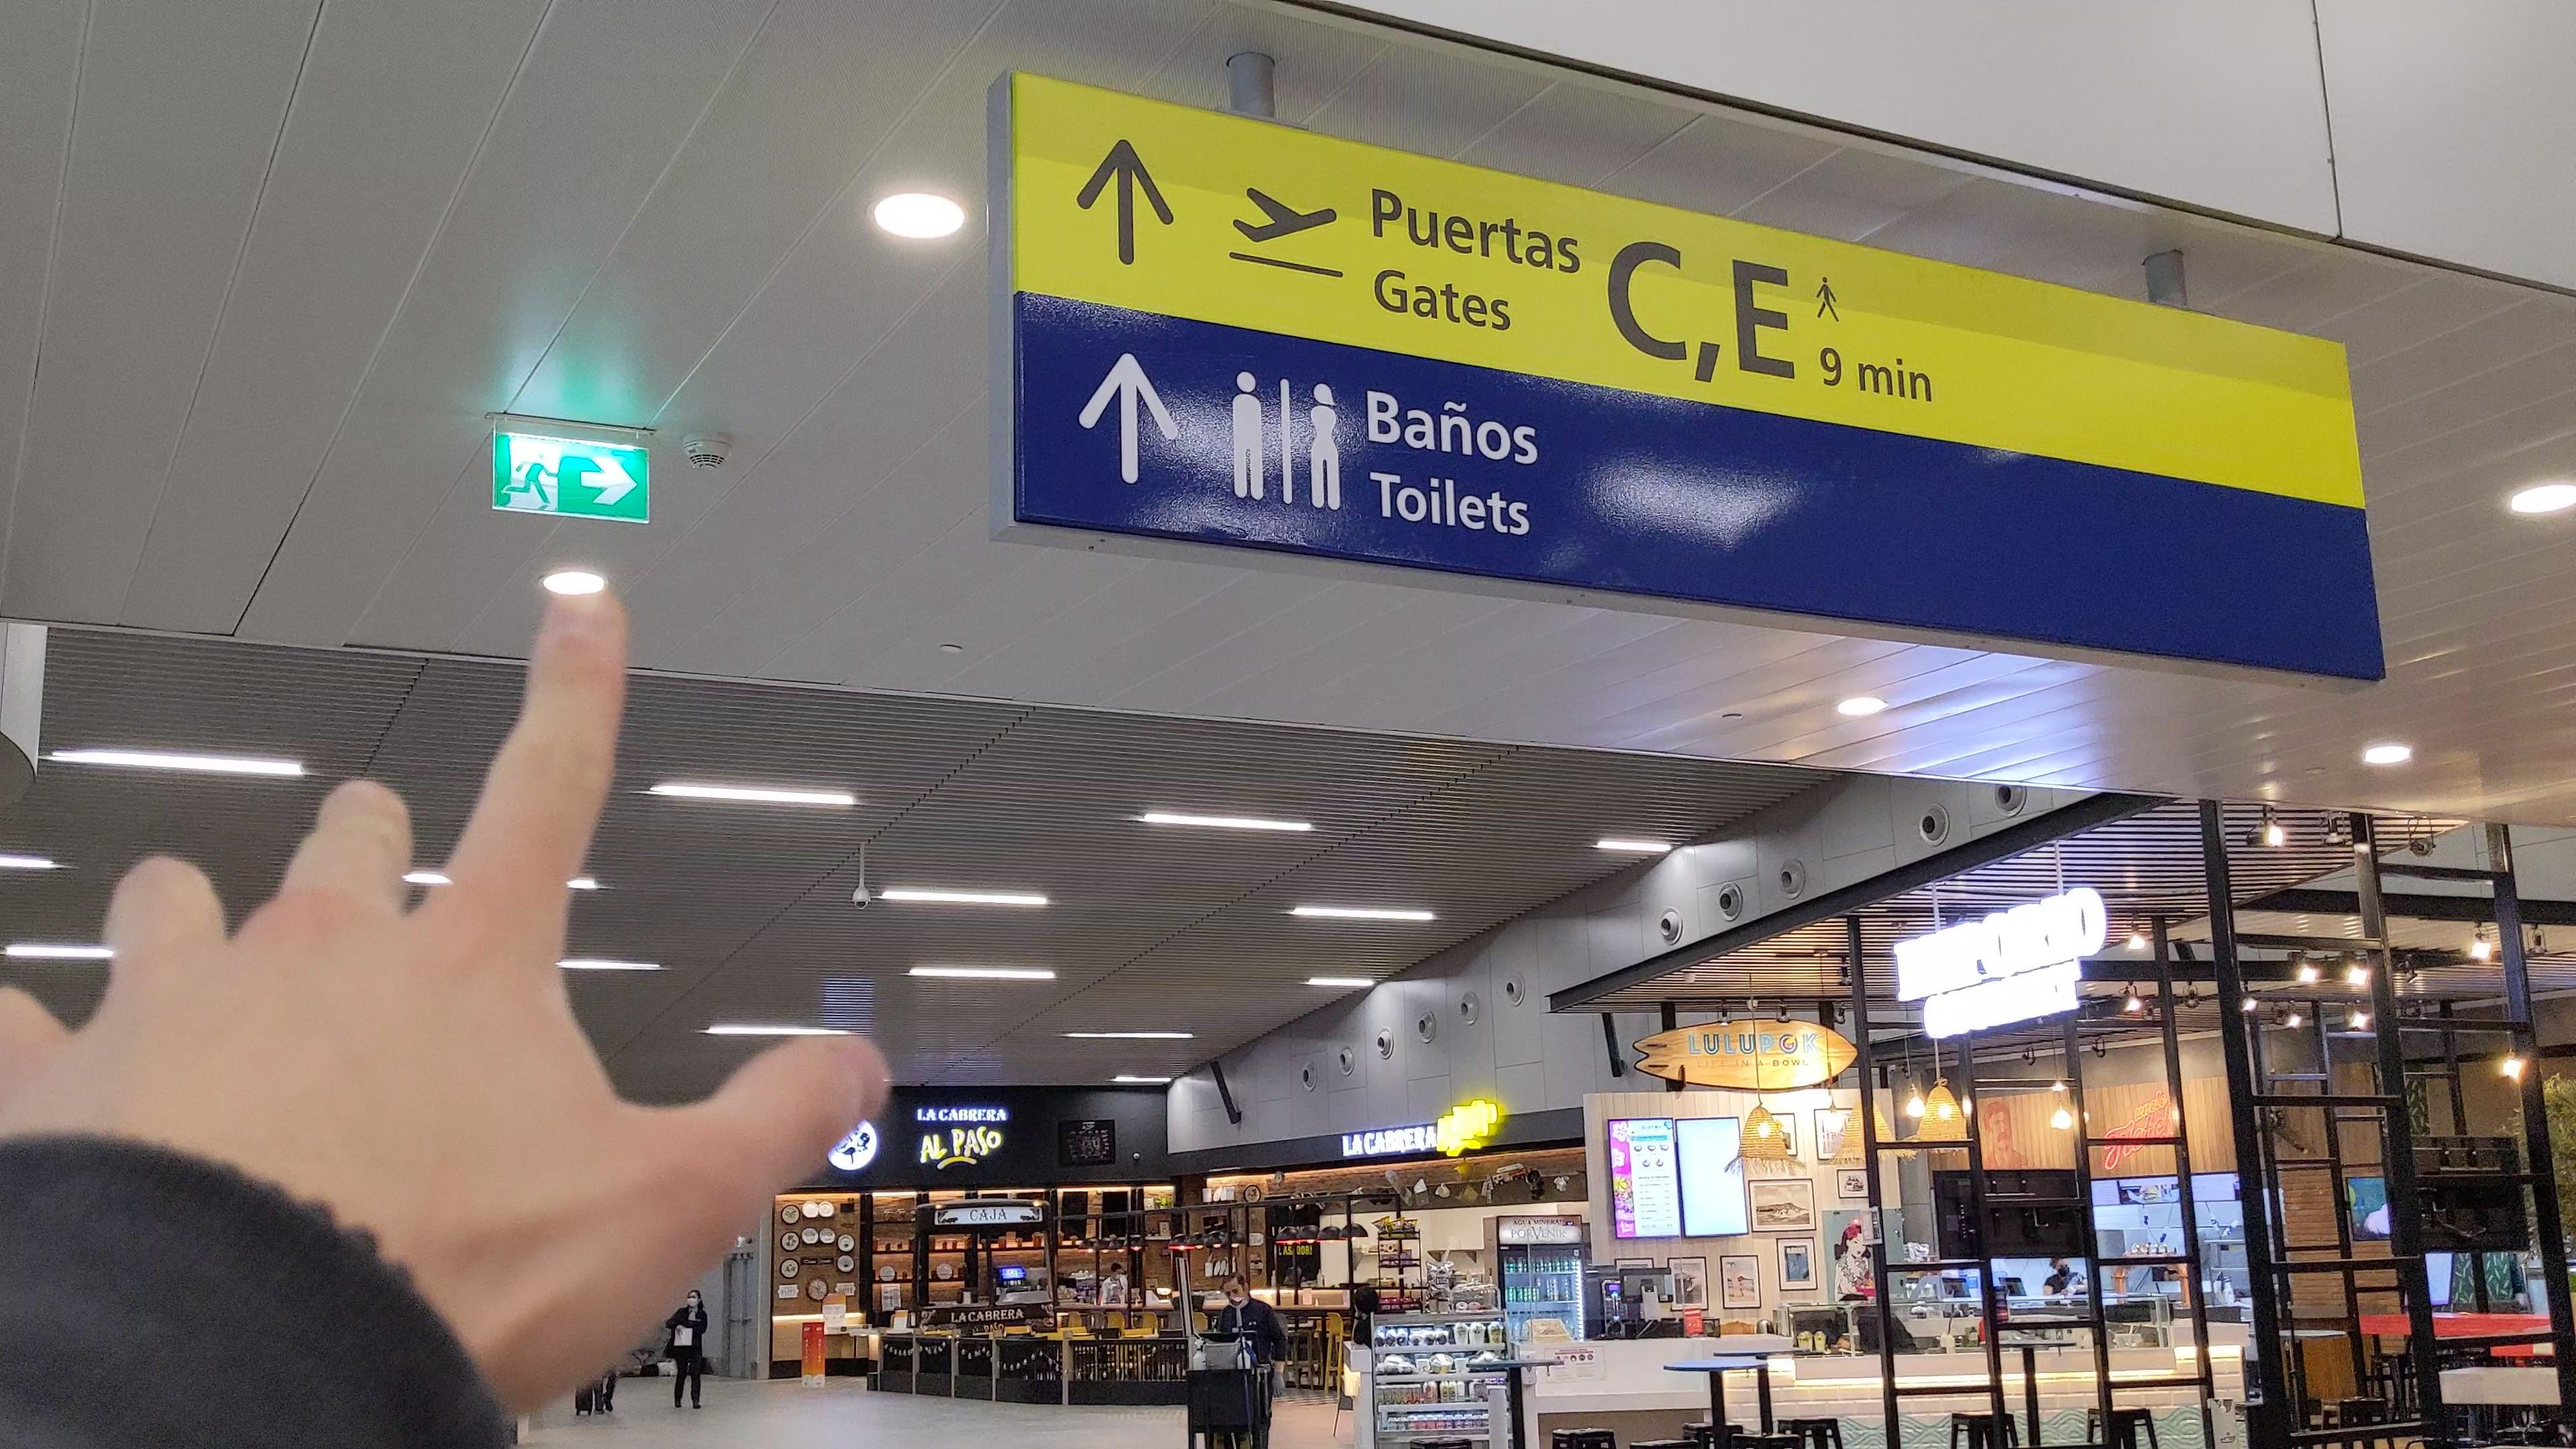airplane symbol: (1230, 179, 1345, 249)
bathrooms: (1224, 366, 1353, 517)
emergency exit: (502, 433, 564, 513)
emergency right arrow: (577, 451, 640, 510)
thin up arrow: (1072, 131, 1180, 272), (1074, 350, 1182, 490)
